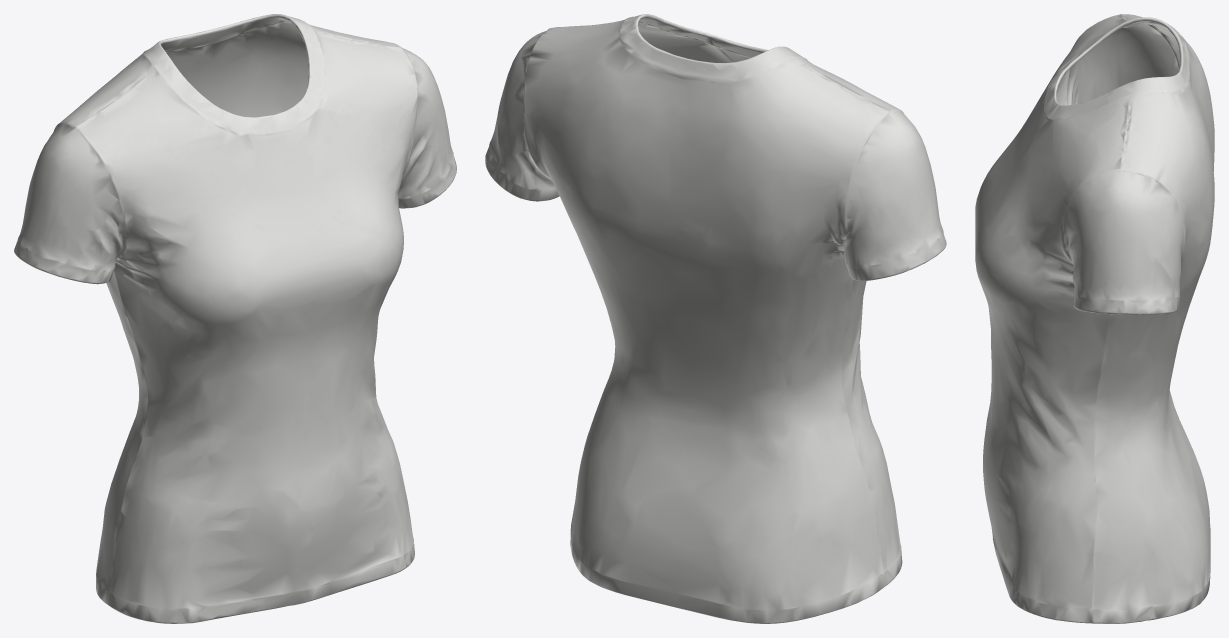
File: tshirt-mockup2.glb
The picture shows the model from 3 angles, left to right: view 1: azimuth 30°, elevation 25°; view 2: azimuth 150°, elevation 25°; view 3: azimuth 270°, elevation 25°; orthographic projection. The views are drawn at different scales.
Visible parts, largest first — view 1: mockup; view 2: mockup; view 3: mockup.
Part boxes in pixels (left/top/right/bottom): mockup: left=14, top=14, right=456, bottom=623; mockup: left=485, top=14, right=946, bottom=623; mockup: left=975, top=14, right=1214, bottom=623.
Bounding box in the file's own units: 0.8469 × 1 × 0.4198.
Materials: 1 (1 with a texture image).
